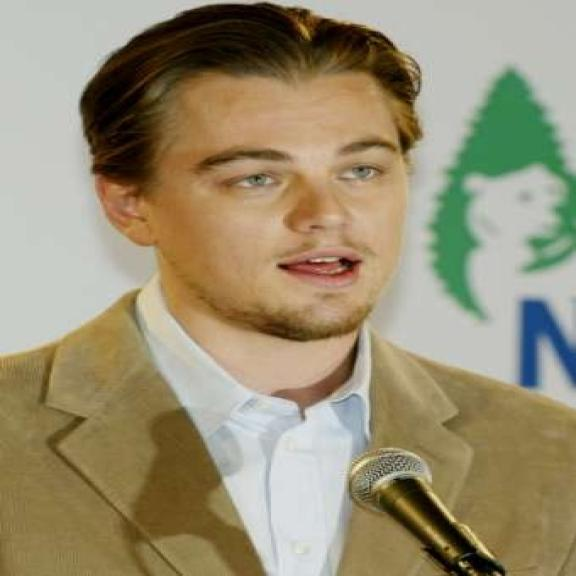face: (93, 47, 410, 342)
